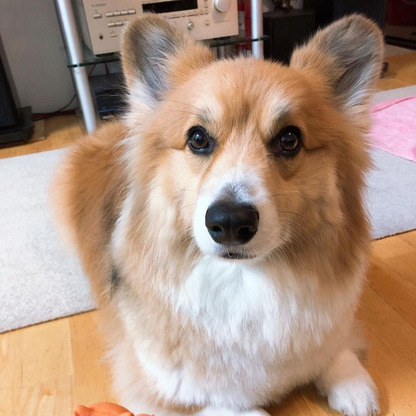Corgi: (87, 13, 397, 408)
